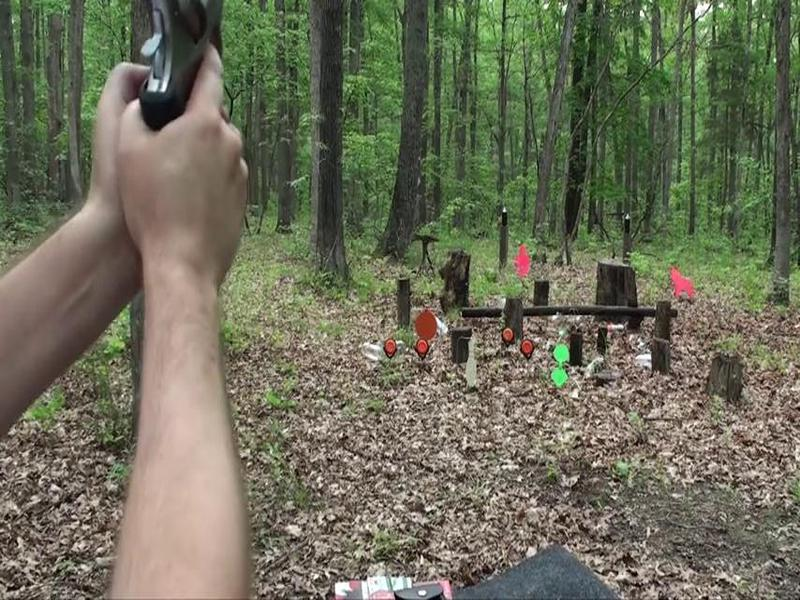Revolver: (117, 1, 234, 140)
